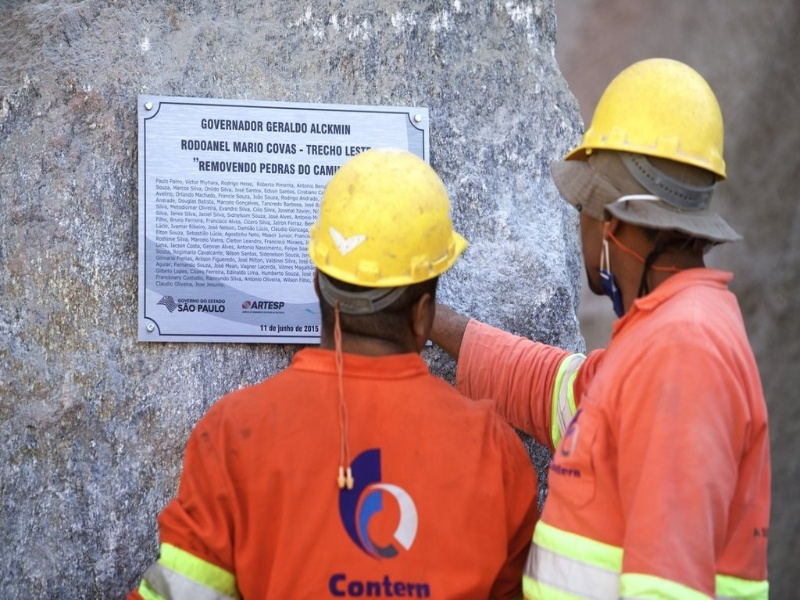baret: (310, 146, 472, 289), (568, 56, 729, 184)
